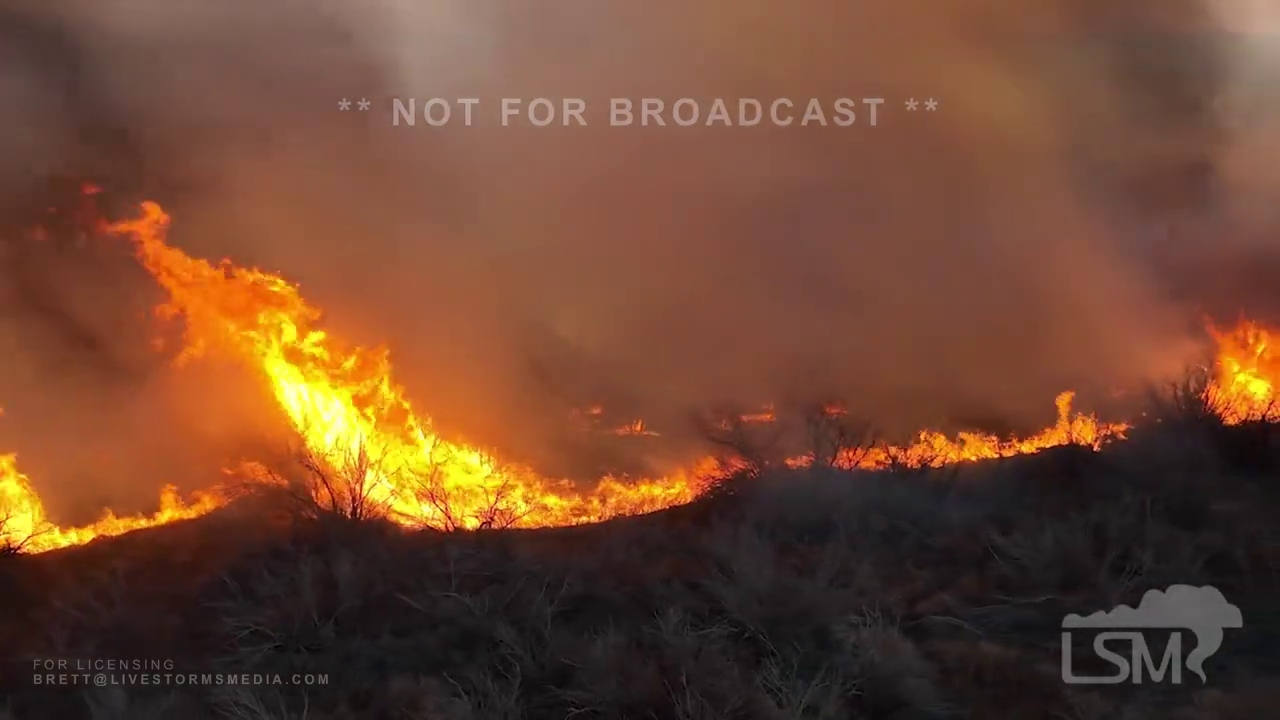forest_fire: (101, 202, 715, 527), (832, 391, 1128, 469), (0, 454, 228, 552), (1206, 319, 1279, 421), (618, 420, 648, 433), (744, 410, 772, 420), (787, 455, 812, 464), (256, 467, 268, 481), (246, 465, 251, 472)
